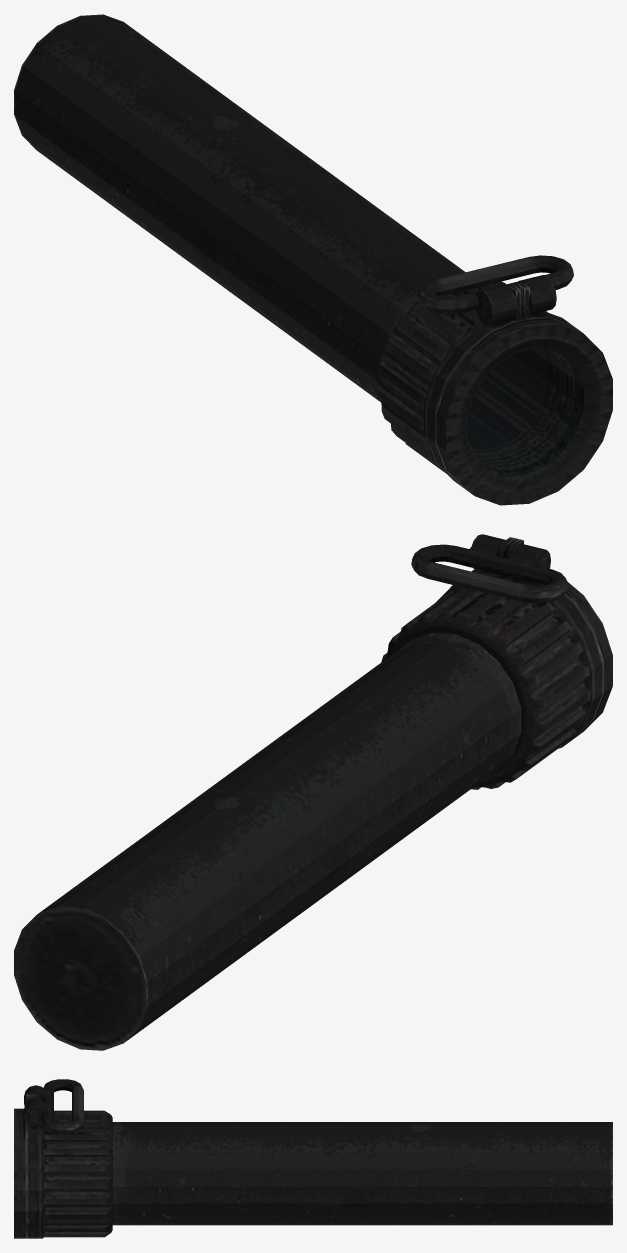
3 renders of one model, top to bottom at view 1: azimuth 30°, elevation 25°; view 2: azimuth 150°, elevation 25°; view 3: azimuth 270°, elevation 25°, orthographic. The views are drawn at different scales.
Parts seen in each view (by area): view 1: TW_5882163e24597758206fee8c_PZ_Import; view 2: TW_5882163e24597758206fee8c_PZ_Import; view 3: TW_5882163e24597758206fee8c_PZ_Import.
Boxes of the visible parts, left/top/right/bottom form: TW_5882163e24597758206fee8c_PZ_Import: left=14, top=14, right=612, bottom=505; TW_5882163e24597758206fee8c_PZ_Import: left=14, top=534, right=612, bottom=1050; TW_5882163e24597758206fee8c_PZ_Import: left=14, top=1079, right=612, bottom=1238.
Size of the model in its own units: 0.0167 by 0.0779 by 0.0198.
Materials: 1 (1 with a texture image).
